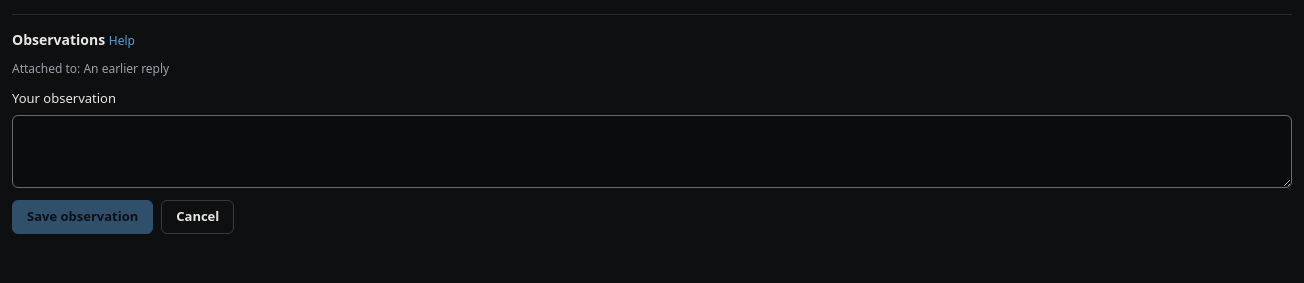
Test: saved lab observations › keeps a failed save as an unsaved draft
Step 1. Type "The plotted range change is too abrupt." into the text box labelled "Your observation" → (652, 151), box [12,115,1292,188]
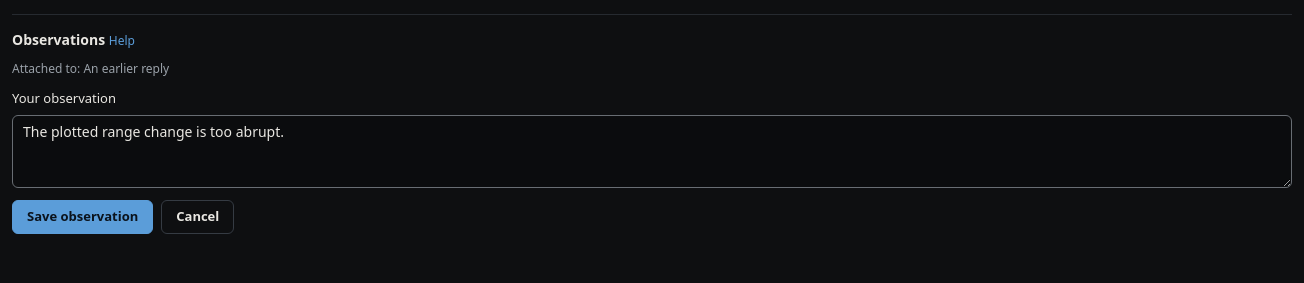
Step 2. Click the button "Save observation" → click(83, 217), box [12,200,153,234]
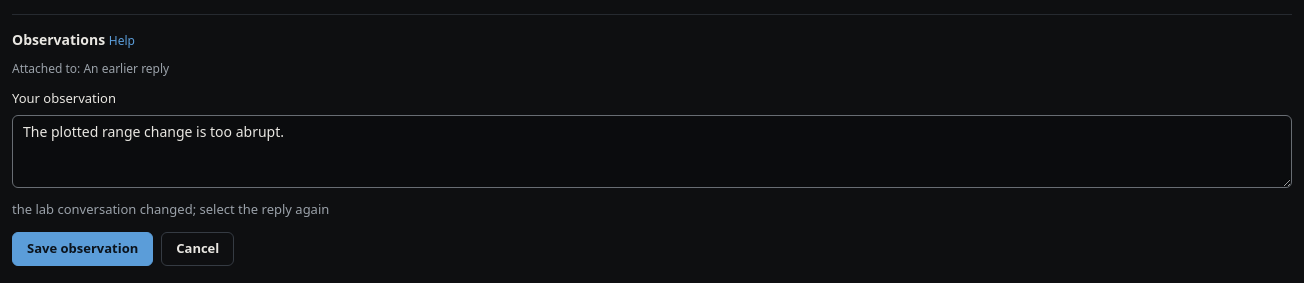
Expected: the message "the lab conversation changed; select the reply again" is shown, [12,200,329,218]
